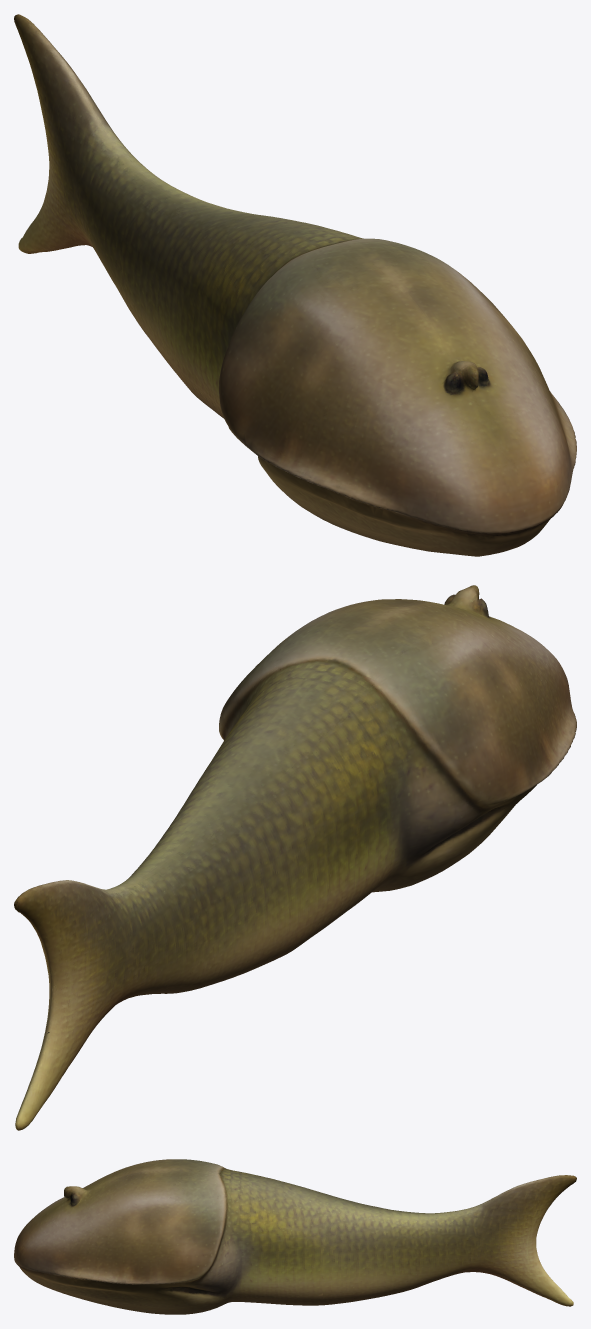
3 renders of one model, top to bottom at view 1: azimuth 30°, elevation 25°; view 2: azimuth 150°, elevation 25°; view 3: azimuth 270°, elevation 25°, orthographic. The views are drawn at different scales.
Visible parts, largest first — view 1: world; view 2: world; view 3: world.
Part boxes in pixels (bbox=[...]): world: bbox=[14, 14, 576, 556]; world: bbox=[14, 585, 576, 1130]; world: bbox=[14, 1159, 576, 1314].
Size of the model in its own units: 0.0329 by 0.027 by 0.1.
Materials: 1 (1 with a texture image).
